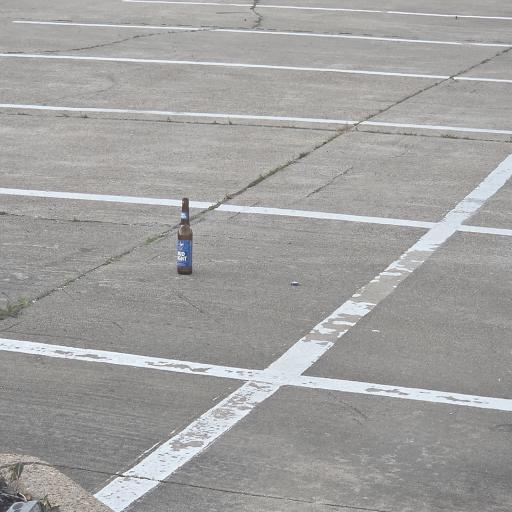glass: (176, 198, 194, 277)
